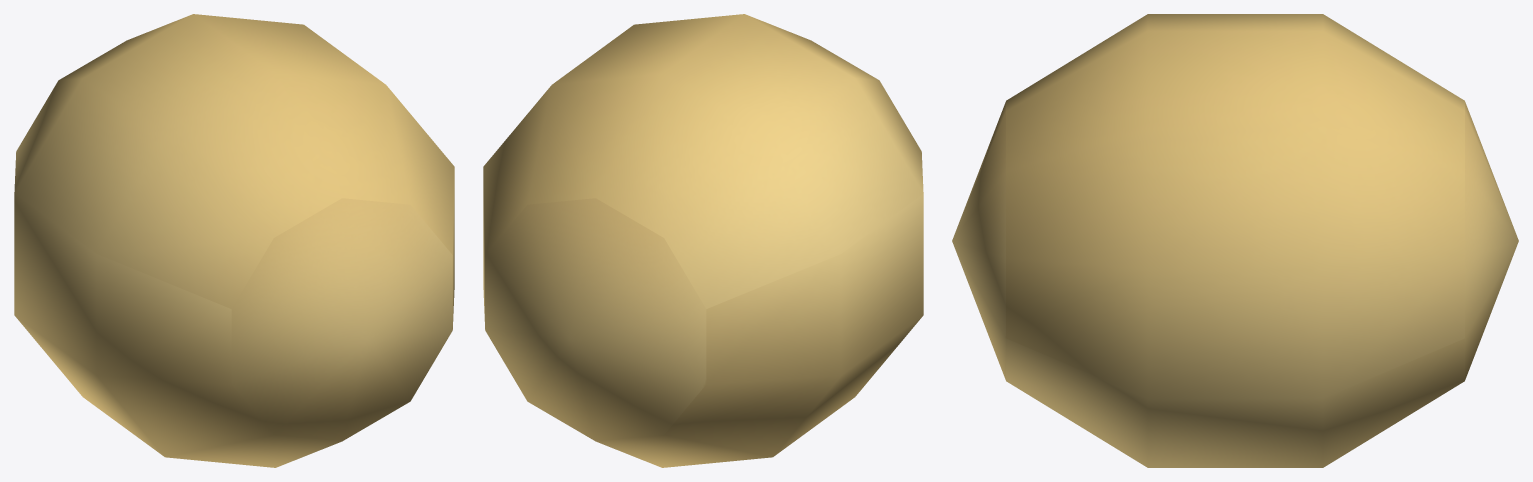
The model's file is mame.FBX.
The picture shows the model from 3 angles, left to right: view 1: azimuth 30°, elevation 25°; view 2: azimuth 150°, elevation 25°; view 3: azimuth 270°, elevation 25°; orthographic projection. The views are drawn at different scales.
Parts seen in each view (by area): view 1: mame; view 2: mame; view 3: mame.
Part boxes in pixels (x1,y1,x2,y2): mame: (14, 14, 454, 467); mame: (483, 14, 923, 467); mame: (952, 14, 1518, 467).
Bounding box in the file's own units: 0.3664 × 0.3852 × 0.4722.
